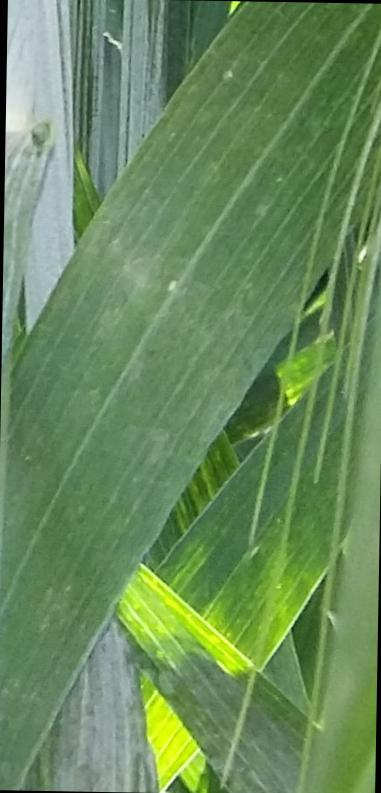Wheat: (14, 266, 254, 742), (98, 6, 370, 347)
